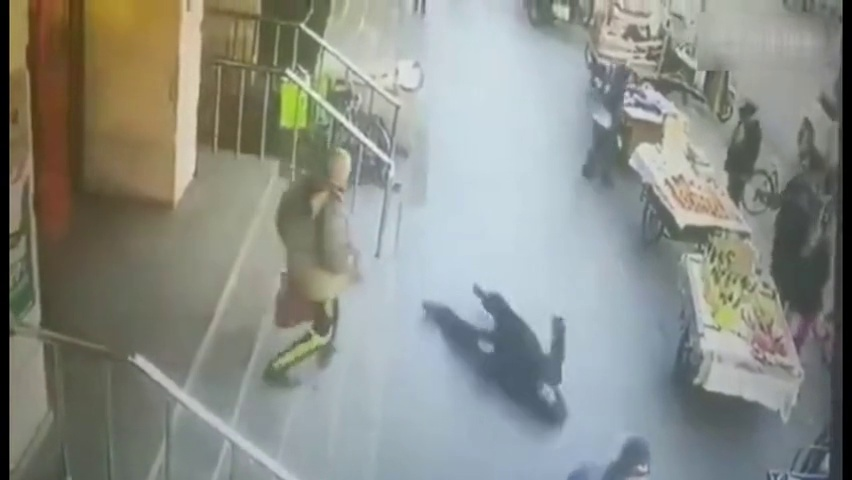fall: (420, 280, 576, 424)
nofall: (262, 145, 360, 384), (774, 172, 829, 345), (586, 64, 625, 187), (724, 94, 757, 205)
